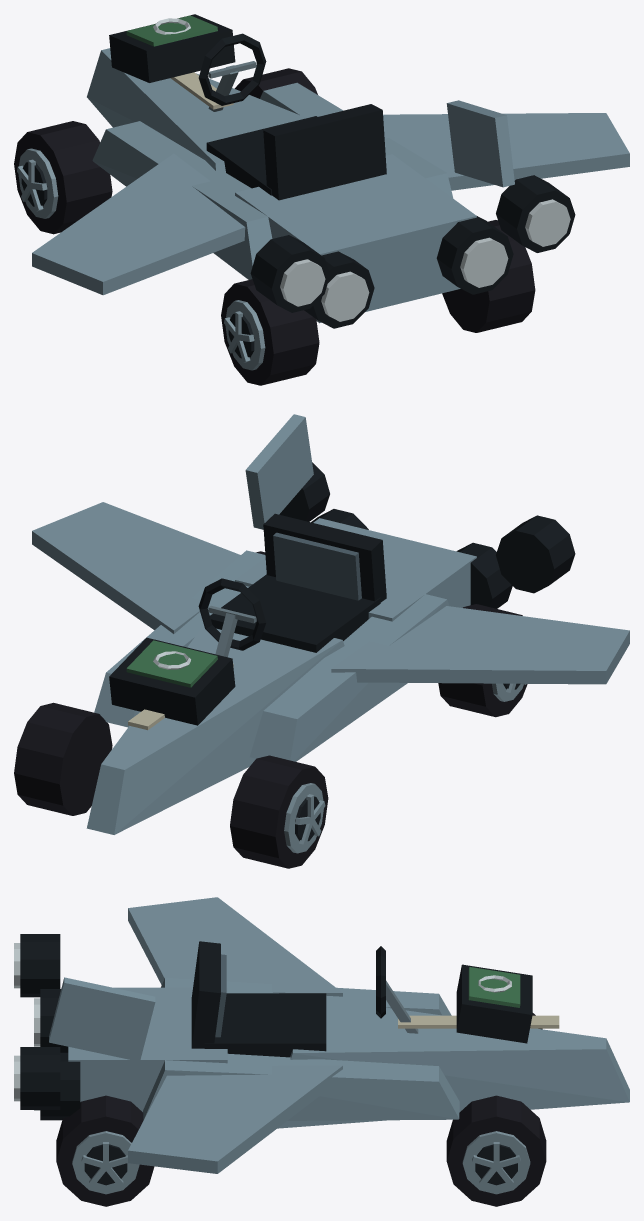
The model's file is aayla_secura-kart-before-star-wars-merge.glb.
3 views of the same model, one above another, from view 1: azimuth 30°, elevation 25°; view 2: azimuth 150°, elevation 25°; view 3: azimuth 270°, elevation 25° (orthographic). The views are drawn at different scales.
Visible parts, largest first — view 1: identity-starfighter-starfighter-flight-planform, identity-starfighter-driver-cockpit, identity-starfighter-motif-thrusters, wheel-front-left, wheel-rear-left, identity-starfighter-motif-scanner, wheel-rear-right, wheel-front-right; view 2: identity-starfighter-starfighter-flight-planform, identity-starfighter-driver-cockpit, wheel-front-left, wheel-front-right, identity-starfighter-motif-scanner, identity-starfighter-motif-thrusters, wheel-rear-left; view 3: identity-starfighter-starfighter-flight-planform, identity-starfighter-driver-cockpit, wheel-front-right, wheel-rear-right, identity-starfighter-motif-thrusters, identity-starfighter-motif-scanner.
Boxes of the visible parts, x1,y1,x2,y2 form: identity-starfighter-starfighter-flight-planform: (32, 48, 629, 328); identity-starfighter-driver-cockpit: (198, 33, 386, 200); identity-starfighter-motif-thrusters: (250, 175, 575, 312); wheel-front-left: (14, 121, 112, 234); wheel-rear-left: (221, 279, 319, 385); identity-starfighter-motif-scanner: (109, 14, 235, 82); wheel-rear-right: (442, 220, 535, 332); wheel-front-right: (234, 68, 317, 98); identity-starfighter-starfighter-flight-planform: (32, 414, 629, 834); identity-starfighter-driver-cockpit: (198, 513, 386, 657); wheel-front-left: (230, 755, 328, 868); wheel-front-right: (14, 702, 112, 815); identity-starfighter-motif-scanner: (109, 637, 235, 725); identity-starfighter-motif-thrusters: (279, 462, 575, 593); wheel-rear-left: (438, 604, 527, 717); identity-starfighter-starfighter-flight-planform: (34, 897, 629, 1173); identity-starfighter-driver-cockpit: (191, 941, 418, 1057); wheel-front-right: (446, 1095, 546, 1206); wheel-rear-right: (56, 1095, 154, 1206); identity-starfighter-motif-thrusters: (14, 934, 60, 1109); identity-starfighter-motif-scanner: (456, 964, 532, 1043).
Size of the model in its own units: 3.14 by 1.18 by 3.09.
